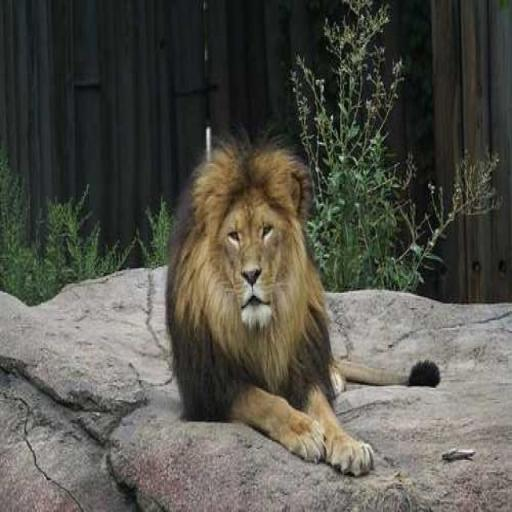Lion: (164, 127, 440, 477)
